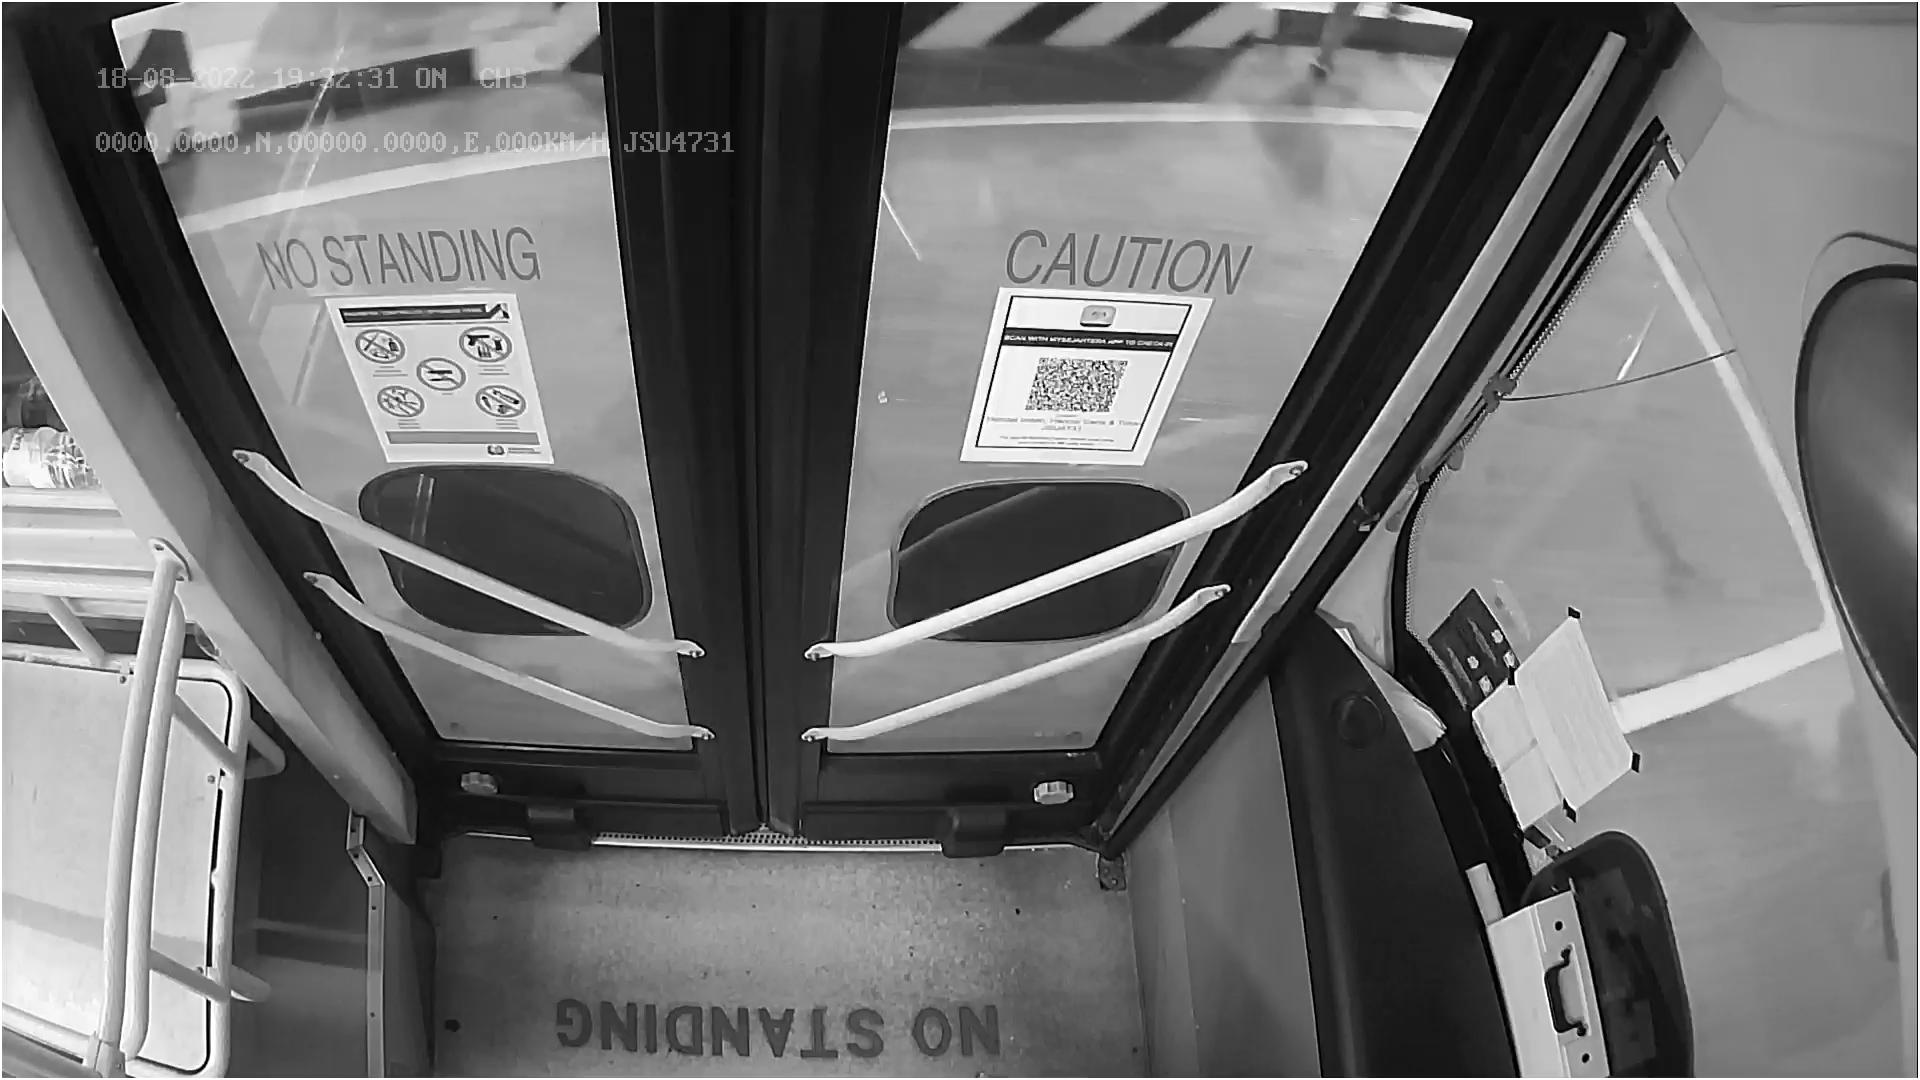close: (124, 0, 1448, 164)
